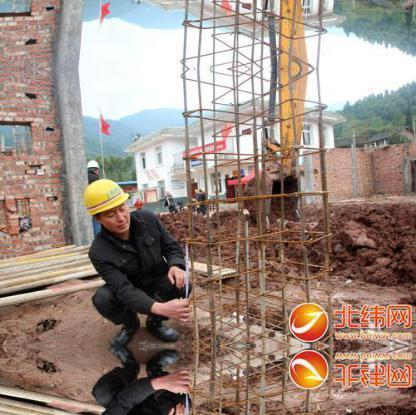helmet: (83, 176, 132, 220), (85, 155, 99, 171)
